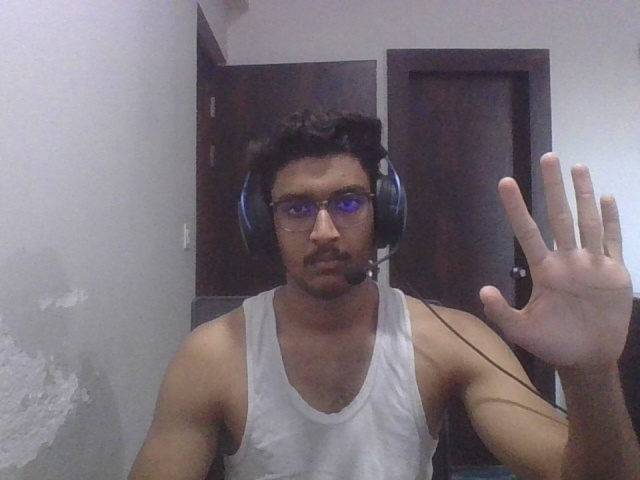Hello: (470, 142, 640, 376)
